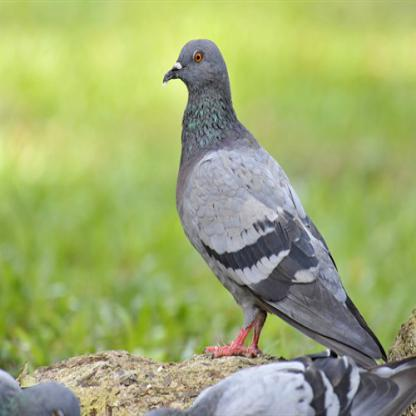Flying Rat: (157, 38, 390, 371), (121, 357, 410, 416)
